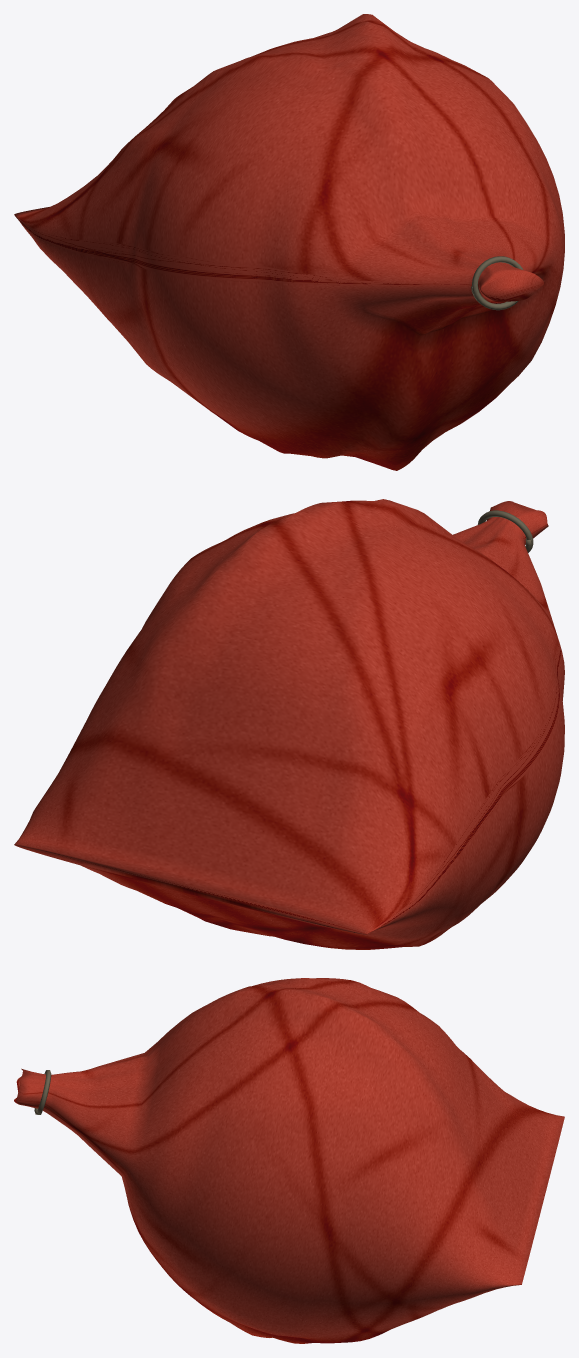
File: peach_01_024.glb
The picture shows the model from 3 angles, top to bottom: view 1: azimuth 30°, elevation 25°; view 2: azimuth 150°, elevation 25°; view 3: azimuth 270°, elevation 25°; orthographic projection. The views are drawn at different scales.
Visible parts, largest first — view 1: export_Tree01/shoot1_8_1/bag, export_Tree01/shoot1_8_1/bag/tie; view 2: export_Tree01/shoot1_8_1/bag; view 3: export_Tree01/shoot1_8_1/bag.
Boxes of the visible parts, left/top/right/bottom form: export_Tree01/shoot1_8_1/bag: left=14, top=14, right=564, bottom=470; export_Tree01/shoot1_8_1/bag/tie: left=471, top=256, right=523, bottom=310; export_Tree01/shoot1_8_1/bag: left=14, top=499, right=564, bottom=949; export_Tree01/shoot1_8_1/bag: left=14, top=978, right=564, bottom=1343.
Bounding box in the file's own units: 0.0891 × 0.0905 × 0.1301.
4 materials, 1 textured.
